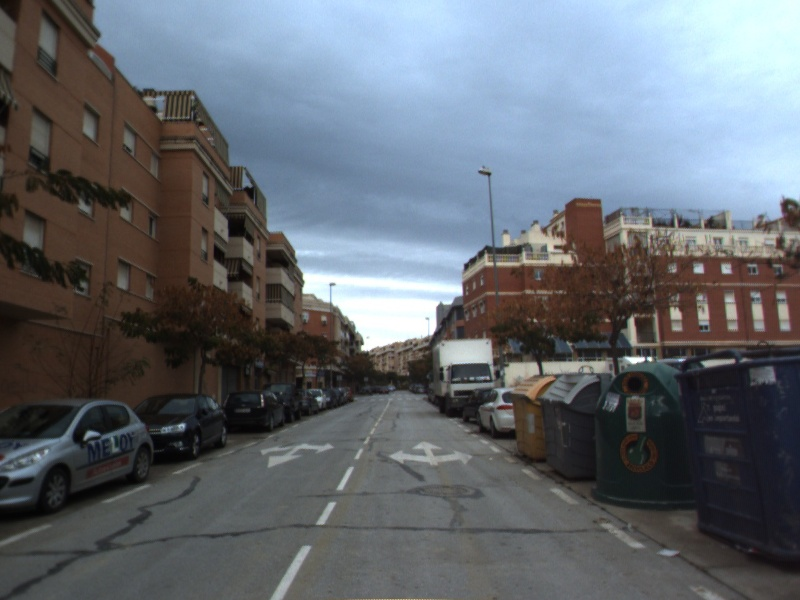STRAIGHT_LEFT_RIGHT: (386, 438, 475, 467)
